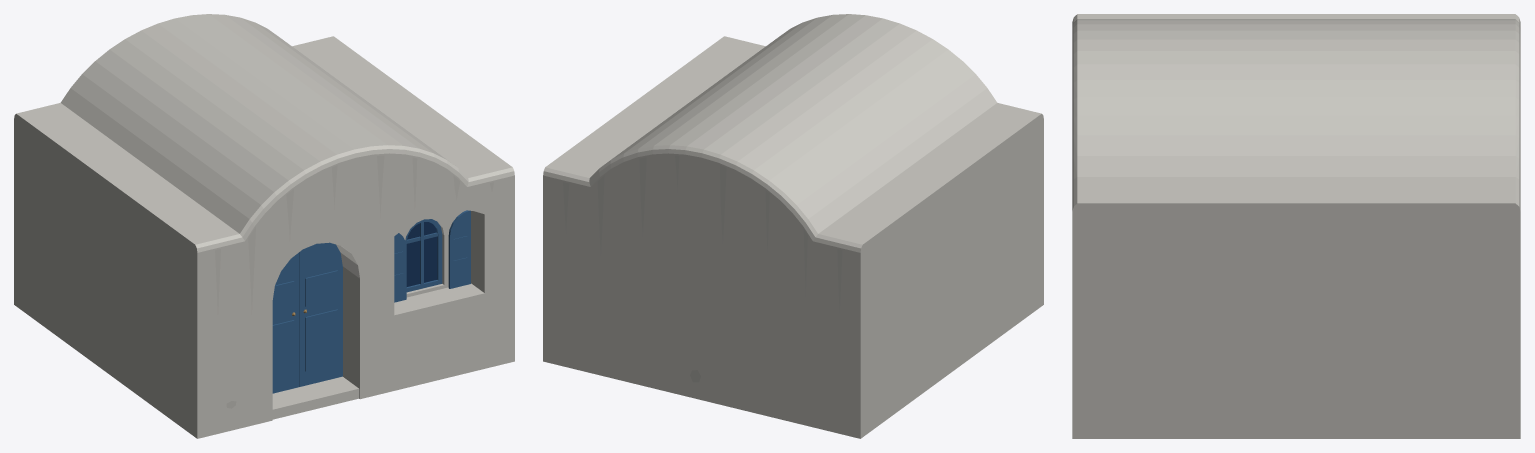
File: cave-house-front-ed6b36.glb
3 views of the same model, side by side, from view 1: azimuth 30°, elevation 25°; view 2: azimuth 150°, elevation 25°; view 3: azimuth 270°, elevation 25° (orthographic). The views are drawn at different scales.
Parts seen in each view (by area): view 1: cave-house-body, door-right-leaf, door-left-leaf, shutter-right-leaf, shutter-left-leaf; view 2: cave-house-body; view 3: cave-house-body.
Part boxes in pixels (bbox=[...]): cave-house-body: bbox=[14, 14, 514, 438]; door-right-leaf: bbox=[299, 242, 342, 386]; door-left-leaf: bbox=[272, 252, 299, 393]; shutter-right-leaf: bbox=[448, 210, 470, 288]; shutter-left-leaf: bbox=[394, 233, 406, 302]; cave-house-body: bbox=[543, 14, 1043, 438]; cave-house-body: bbox=[1072, 14, 1520, 438].
Bounding box in the file's own units: 4 × 3 × 4.
